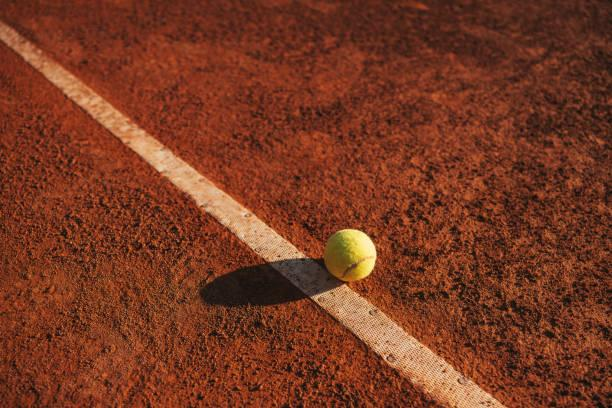ball_tennis: (324, 227, 377, 284)
